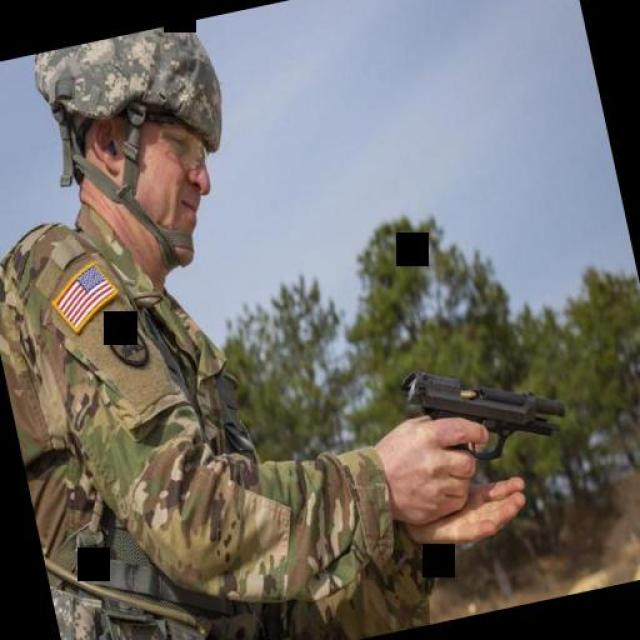gun: (394, 330, 575, 486)
